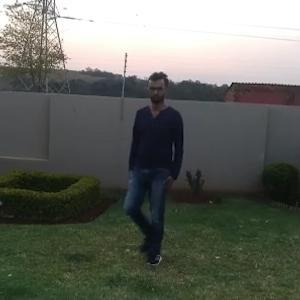follow: (130, 71, 193, 264)
